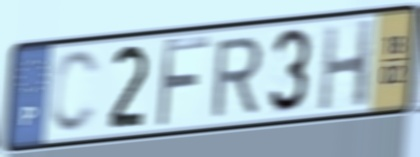2: (107, 42, 150, 130)
3: (265, 24, 317, 117)
C: (47, 47, 103, 138)
F: (153, 34, 213, 132)
H: (316, 15, 377, 114)
R: (208, 33, 265, 121)
